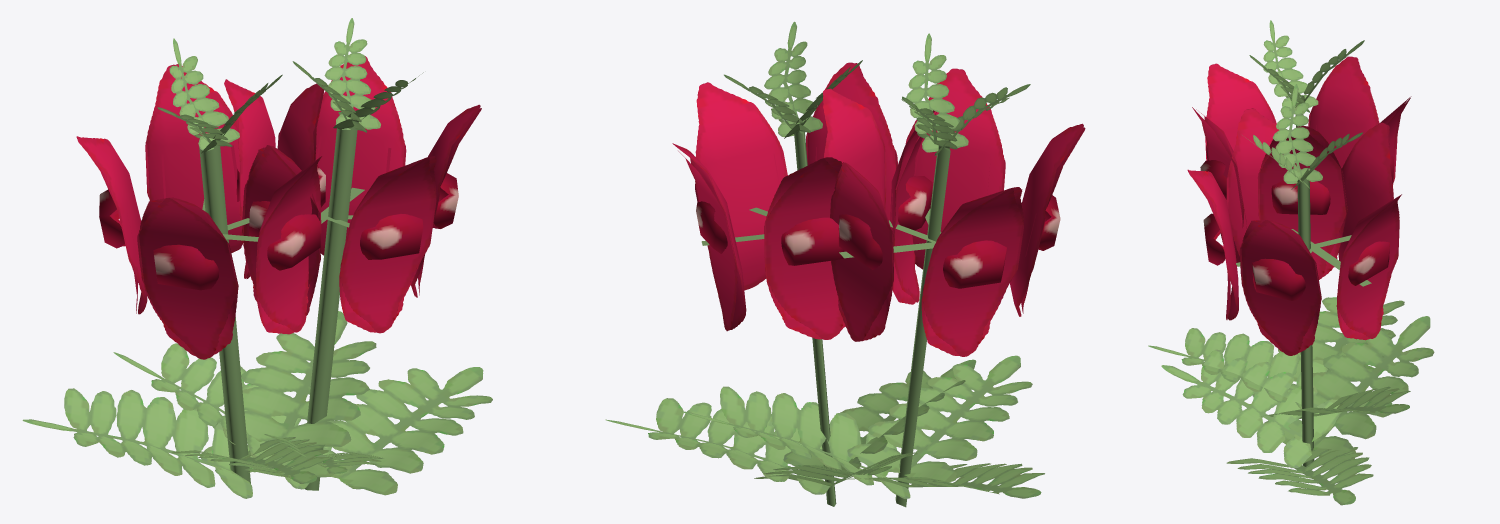
Rendered from DesertPea_Hand.fbx.
3 renders of one model, left to right at view 1: azimuth 30°, elevation 25°; view 2: azimuth 150°, elevation 25°; view 3: azimuth 270°, elevation 25°, orthographic. The views are drawn at different scales.
Parts seen in each view (by area): view 1: DesertPea, DesertPea (1); view 2: DesertPea, DesertPea (1); view 3: DesertPea (1), DesertPea.
Part boxes in pixels (box(x1,y1,x2,y2)): DesertPea: box(22, 38, 376, 498); DesertPea (1): box(113, 18, 492, 495); DesertPea: box(681, 33, 1085, 507); DesertPea (1): box(605, 21, 976, 506); DesertPea (1): box(1161, 84, 1434, 505); DesertPea: box(1148, 20, 1411, 419).
Size of the model in its own units: 1.52 by 1.33 by 1.09.
1 material, 1 textured.
